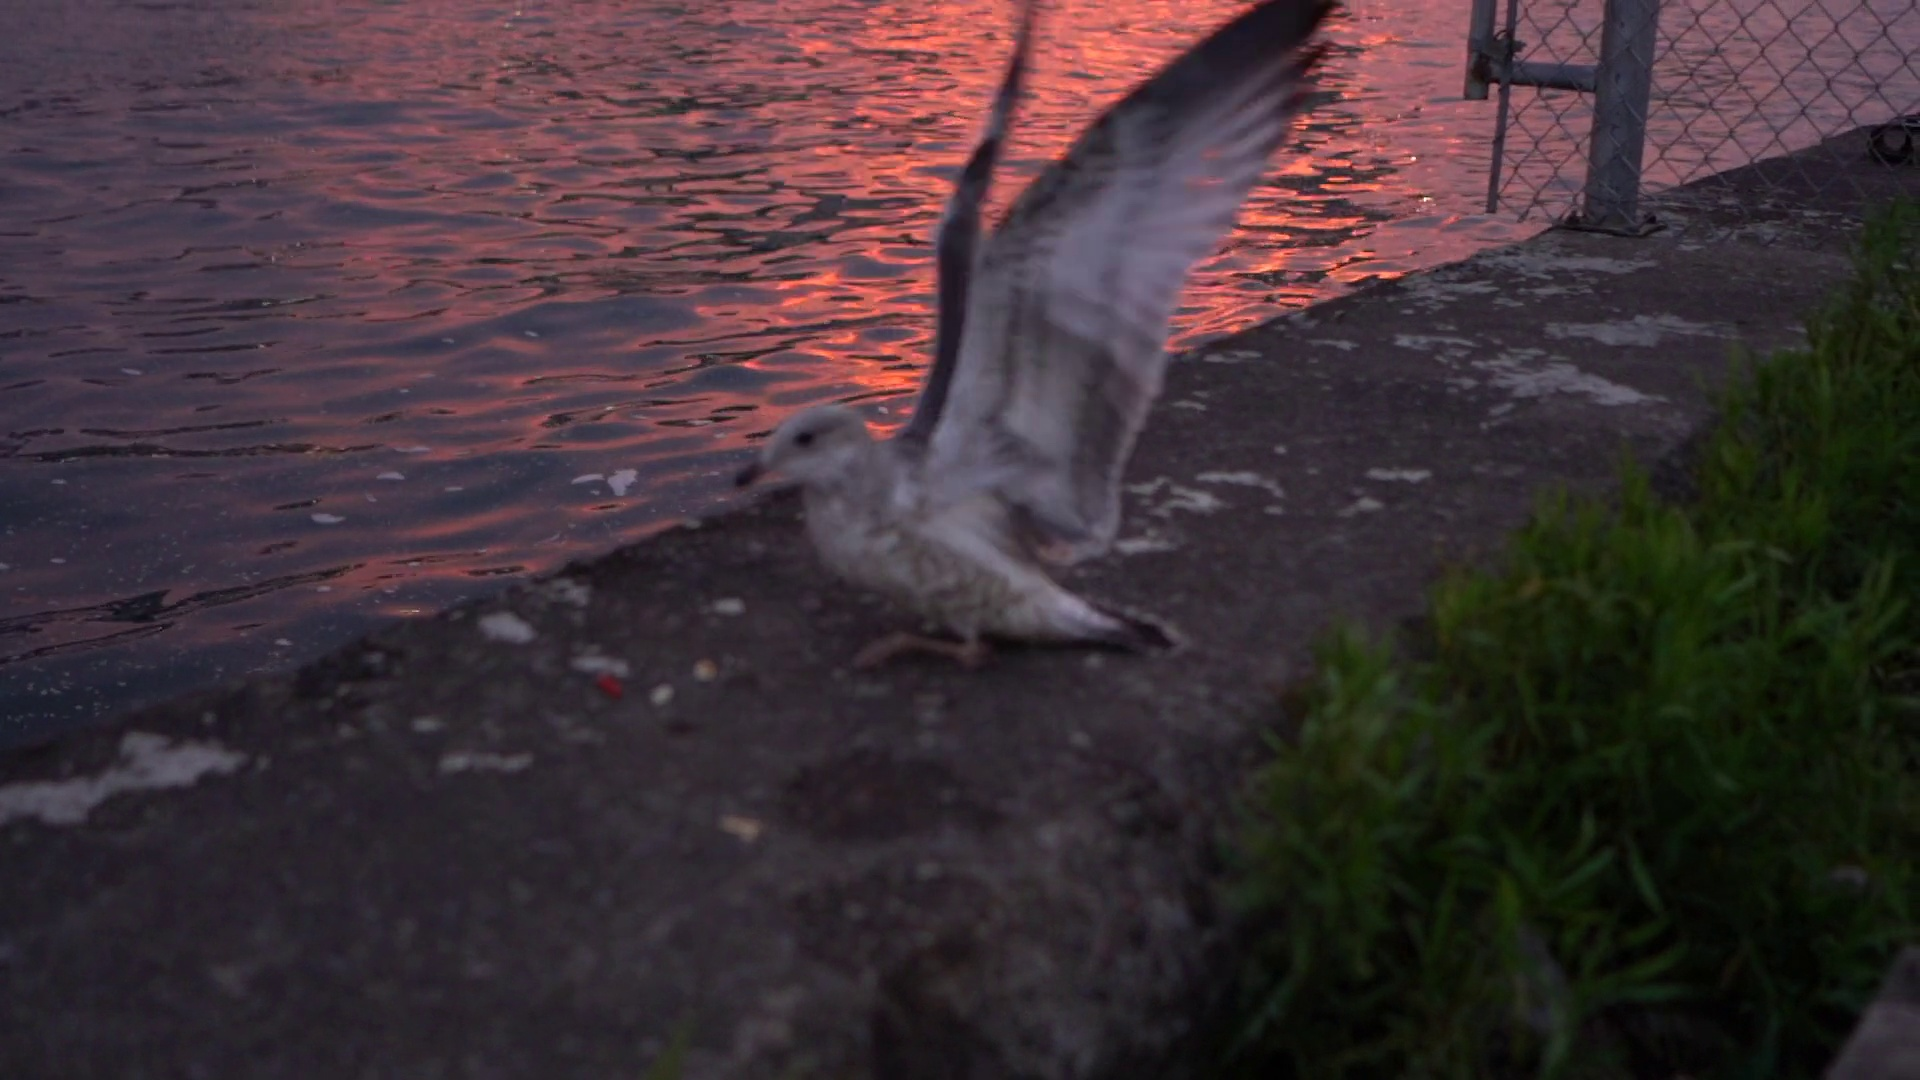bird: (733, 1, 1338, 669)
